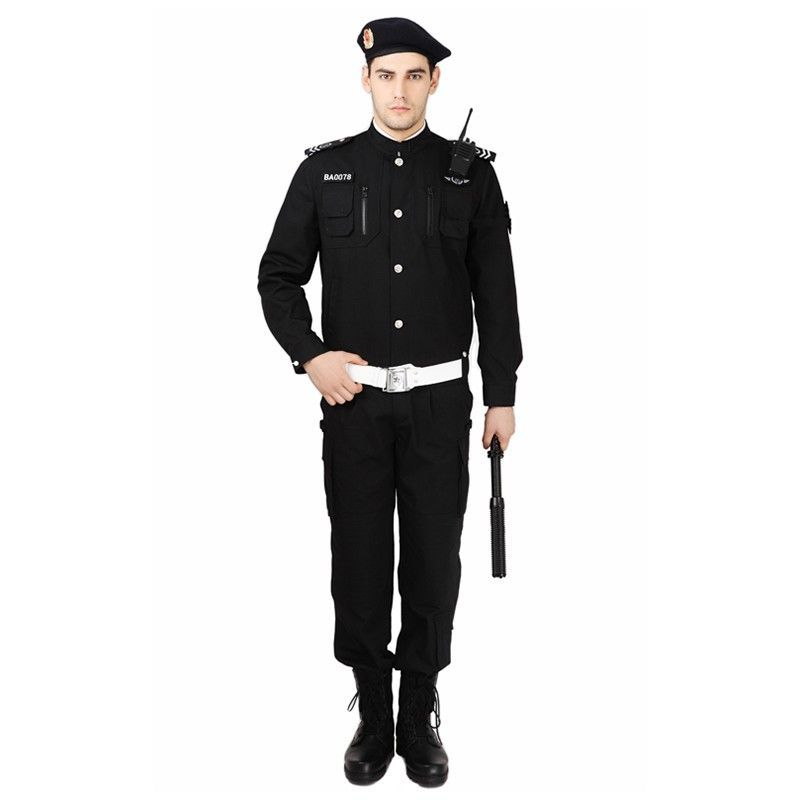uniform: (289, 127, 526, 725)
